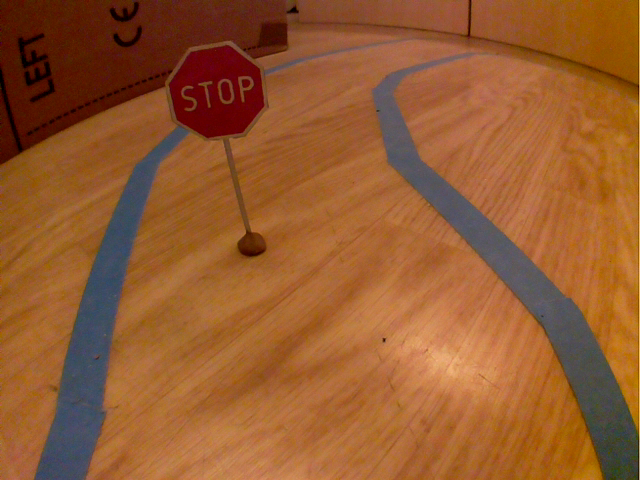Stop: (162, 38, 275, 145)
